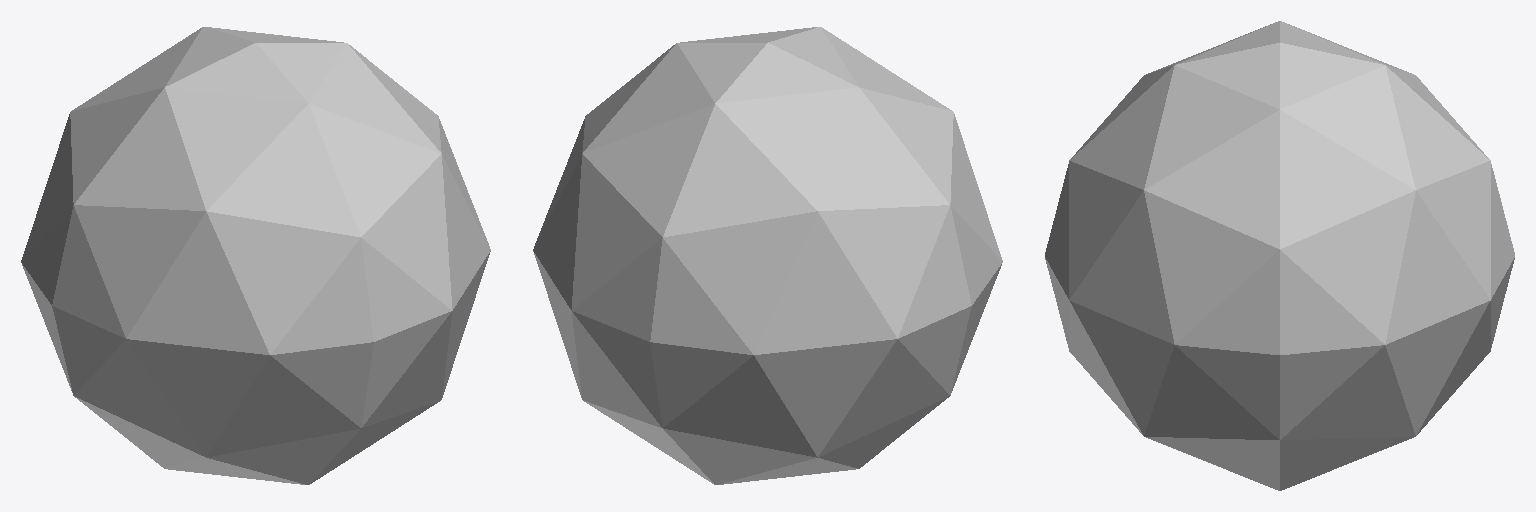
File: BilliardBall_A__1.obj
3 views of the same model, side by side, from view 1: azimuth 30°, elevation 25°; view 2: azimuth 150°, elevation 25°; view 3: azimuth 270°, elevation 25° (orthographic).
Visible parts, largest first — view 1: F3:GeoDome1; view 2: F3:GeoDome1; view 3: F3:GeoDome1.
Part boxes in pixels (x1,y1,x2,y2): F3:GeoDome1: (21, 27, 490, 484); F3:GeoDome1: (533, 27, 1002, 484); F3:GeoDome1: (1045, 21, 1514, 490).
Bounding box in the file's own units: 2 × 2 × 2.